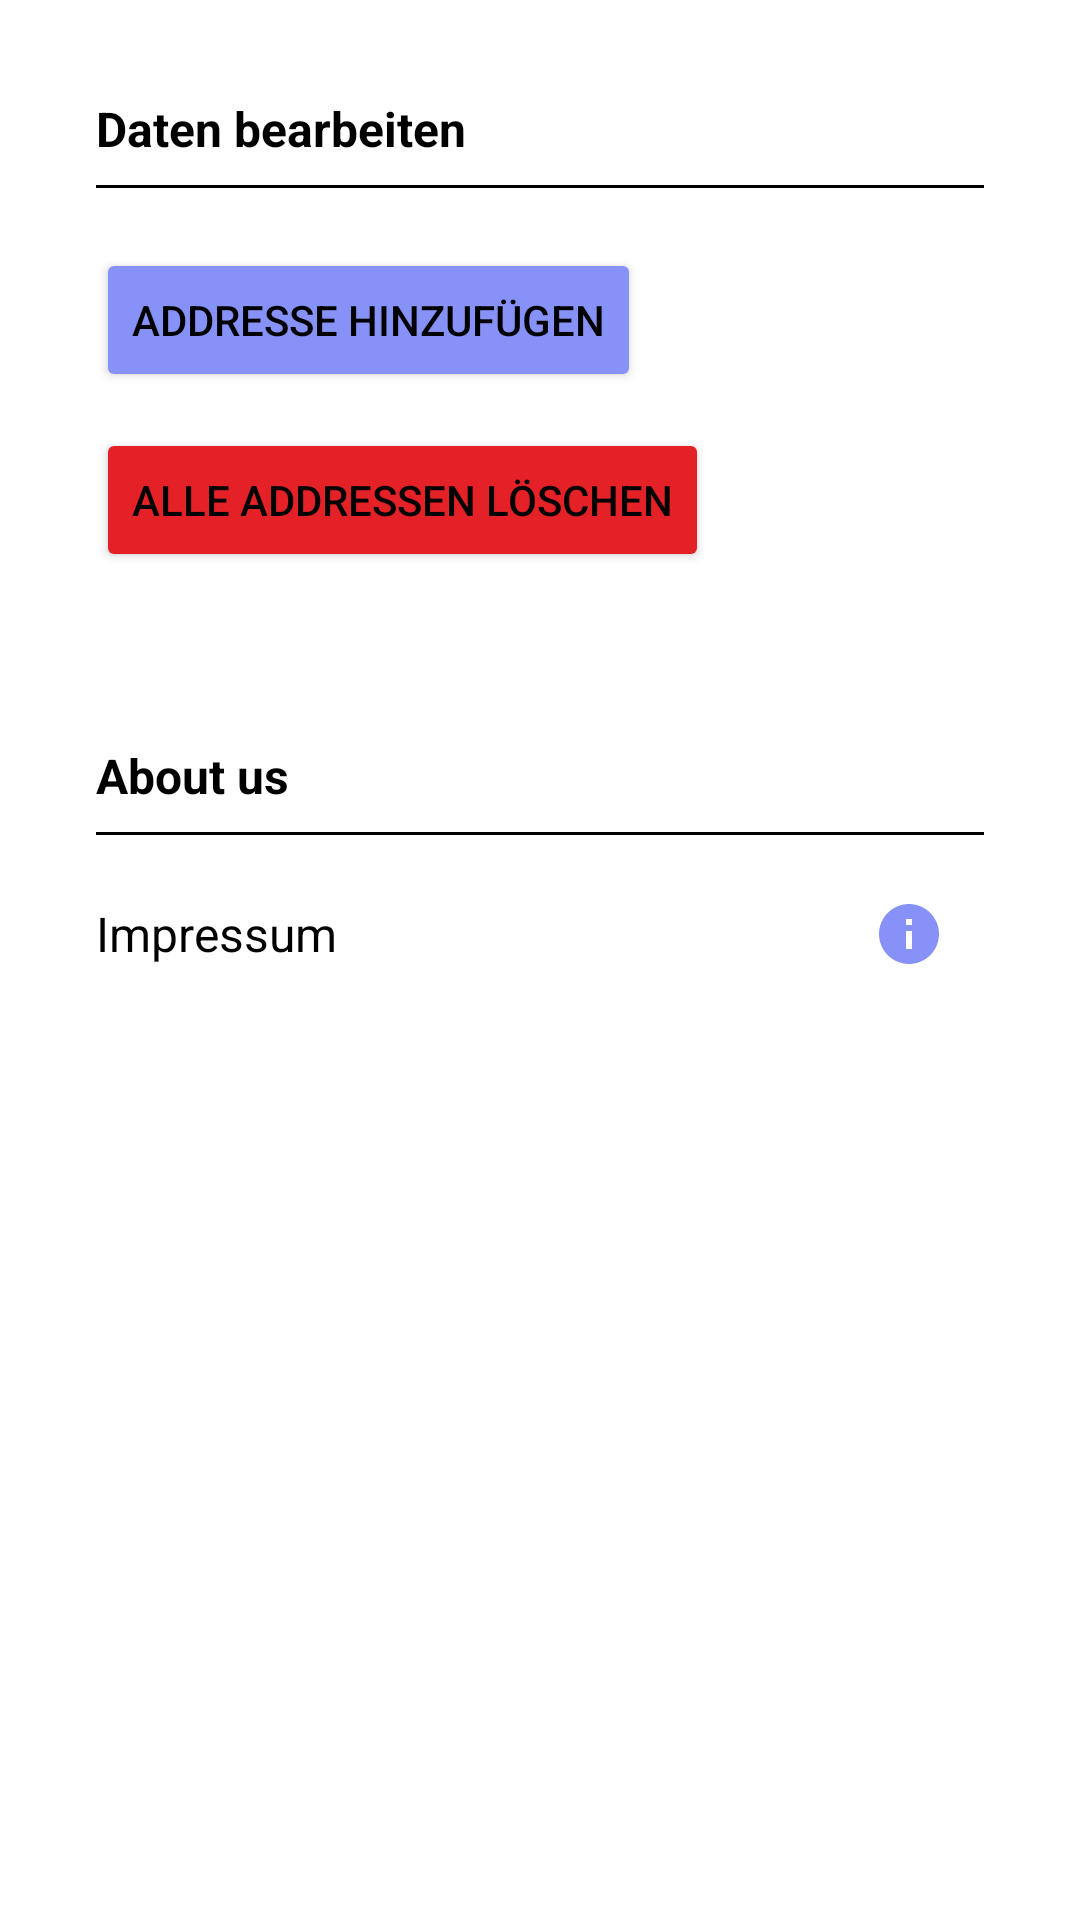

Named icons in this screenshot (1080 × 1920) and their centers, point (x, y):
info: point (909, 934)
